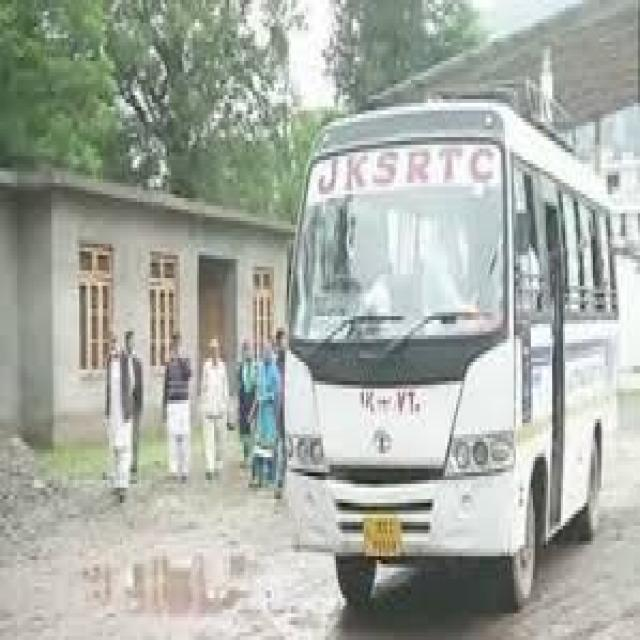bus: (261, 72, 640, 618)
